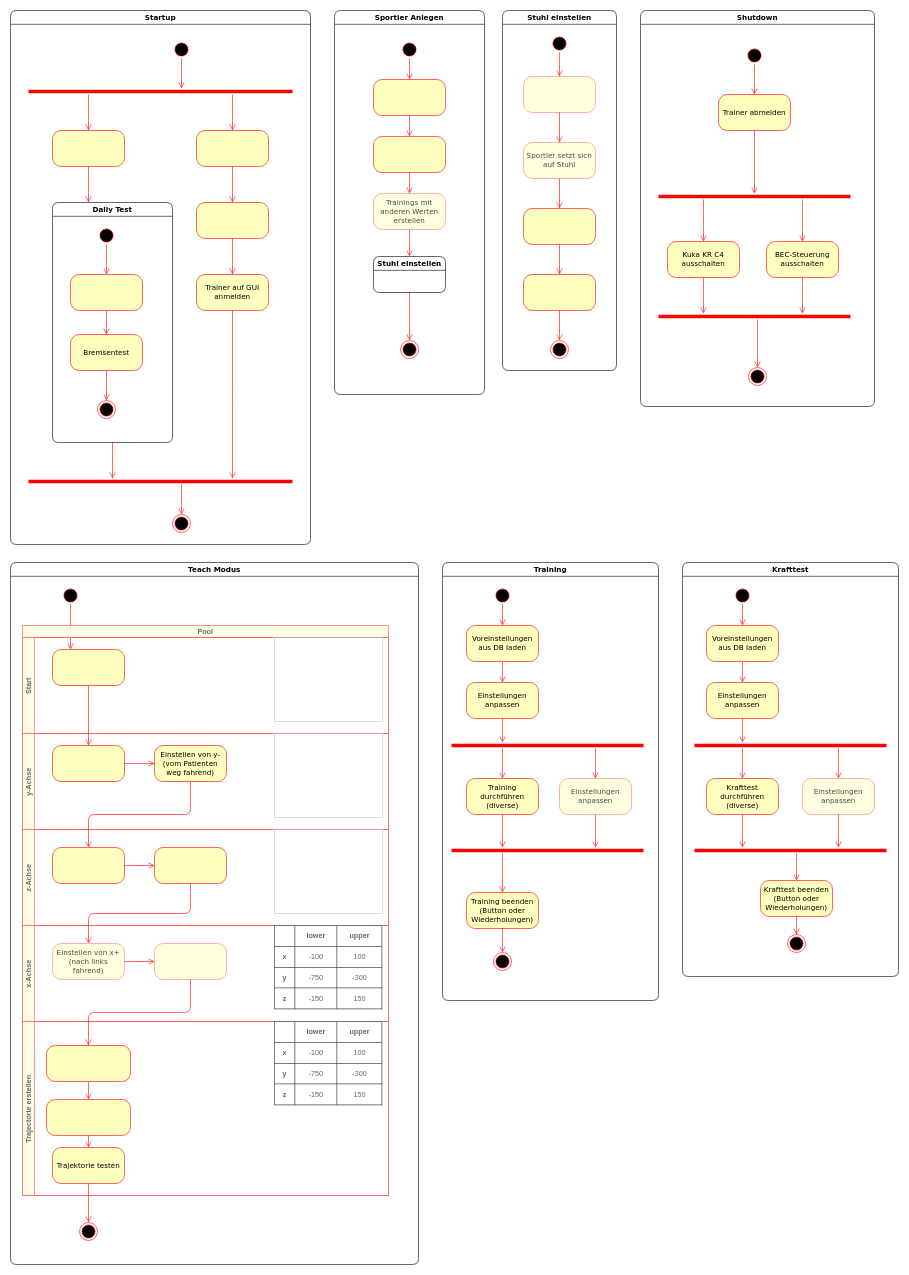
Image size: 909x1275. Some labels were removed from this diagram. The shapes that lost their labels are listed below. From the top down, each one's centre as x and y in pixels, then its label:
pixel 409 97: Persönliche Daten eingeben
pixel 559 94: Neigung der Sitzfläche einstellen
pixel 88 148: Kuka KR C4 einschalten
pixel 232 148: BEC-Steuerung einschalten
pixel 409 154: Trainings mit default Werten erstellen
pixel 232 220: GUI mit OPC-UA Server verbinden
pixel 559 226: Neigung der Lehne einstellen
pixel 106 292: Referenzfahrt
pixel 559 292: ggf Sportler anschnallen
pixel 88 667: Alle Richtungen verriegelt
pixel 328 679: lower upper x -9000 9000 y -9000 9000 z -9000 9000
pixel 88 763: Einstellen von y+ (zum Patienten hin fahrend)
pixel 328 775: lower upper x -9000 9000 y -750 -300 z -9000 9000
pixel 88 865: Einstellen von z+ (nach oben fahrend)
pixel 190 865: Einstellen von z- (nach unten fahrend)
pixel 328 871: lower upper x -9000 9000 y -750 -300 z -150 150
pixel 190 961: Einstellen von x- (nach rechts fahrend)
pixel 88 1063: Startpunkt anfahren/einteachen
pixel 88 1117: Endpunkt anfahren/einteachen
